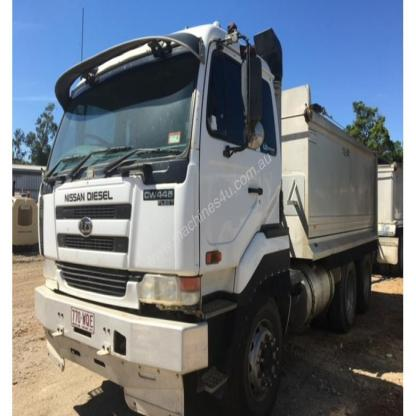dump_truck: (32, 18, 376, 415)
